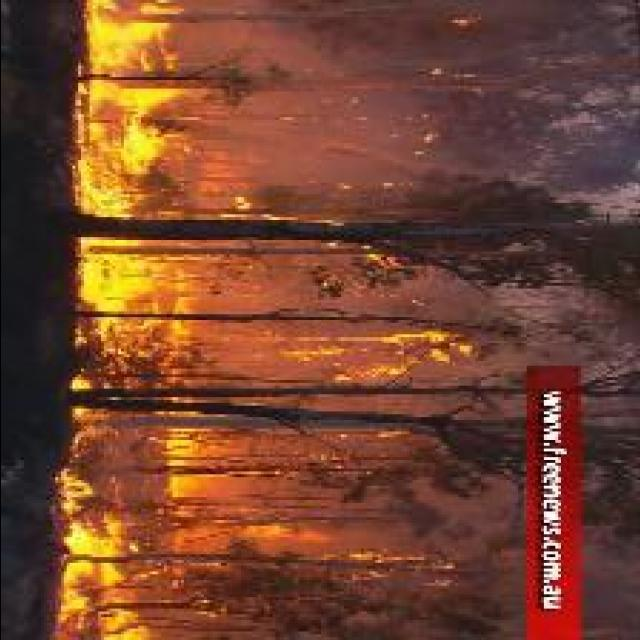Fire: (59, 465, 156, 640), (77, 90, 183, 218), (277, 336, 474, 382), (83, 240, 166, 340), (78, 0, 186, 74), (173, 270, 196, 344)
